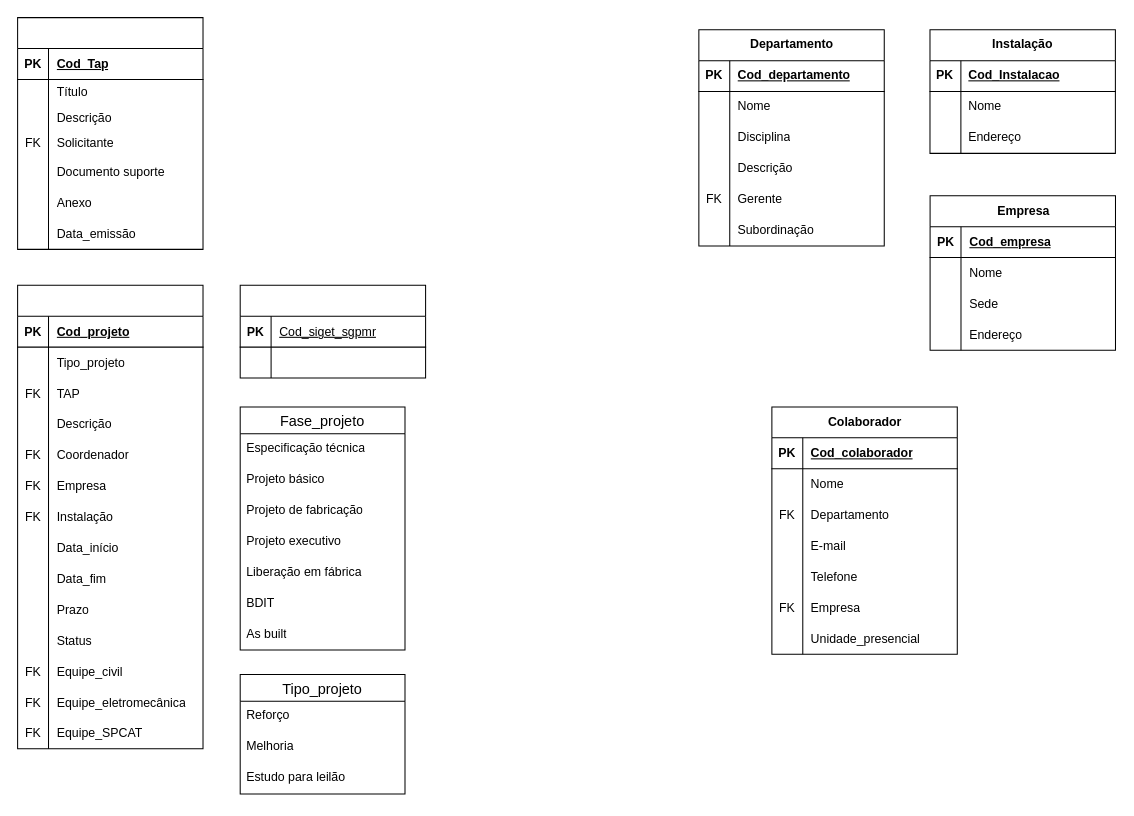
Some shapes in this 1134 by 816 pixel diagram are drawn without their labels. The shapes that lost their labels are listed below. From the top down, each one's box as (x1, y1, x2, y2) in pixels, then its label:
(17, 17, 203, 249): TAP (empreendimento)
(239, 284, 426, 378): Reforço_Melhoria
(17, 284, 203, 749): Projeto (Etapa)
